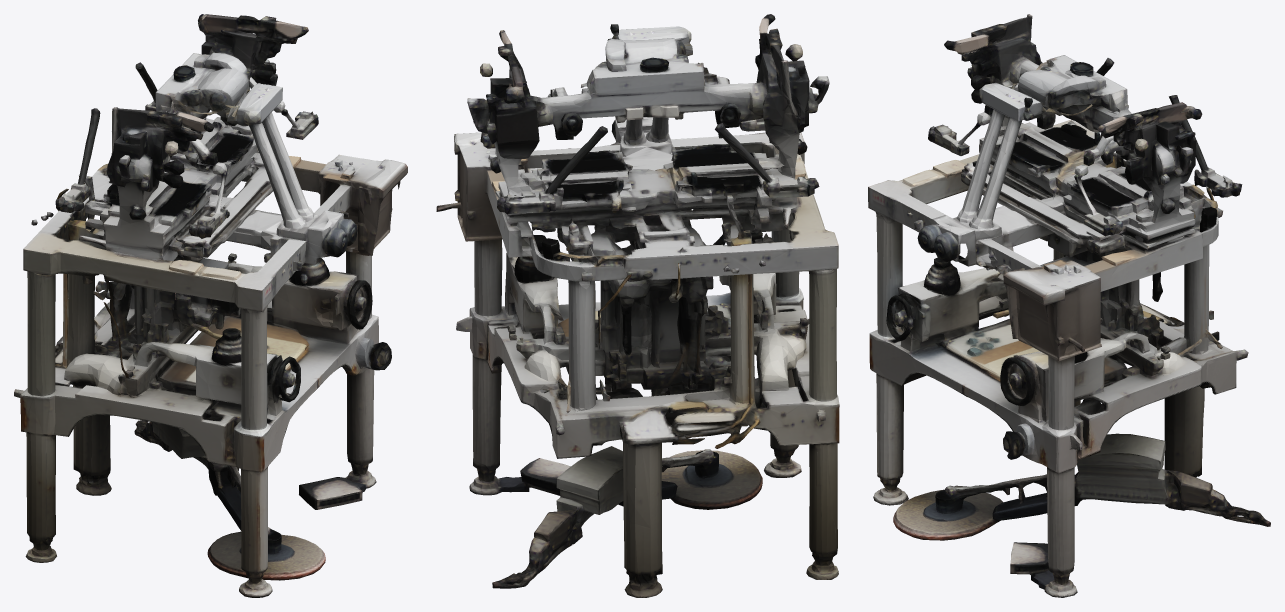
The picture shows the model from 3 angles, left to right: view 1: azimuth 30°, elevation 25°; view 2: azimuth 150°, elevation 25°; view 3: azimuth 270°, elevation 25°; orthographic projection. The views are drawn at different scales.
Parts seen in each view (by area): view 1: world.002, world.003; view 2: world.002; view 3: world.002, world.003, world.001.
Part boxes in pixels (x1,y1,x2,y2): world.002: (14, 14, 407, 597); world.003: (249, 123, 306, 228); world.002: (436, 14, 839, 597); world.002: (868, 14, 1270, 597); world.003: (956, 109, 1004, 222); world.001: (934, 232, 960, 262).
Bounding box in the file's own units: 0.8676 × 1 × 0.8136.
3 materials, 3 textured.
